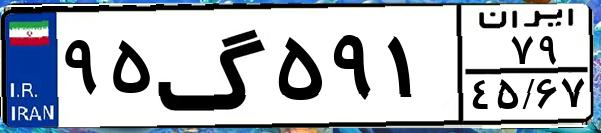1: (385, 28, 445, 110)
4: (470, 70, 495, 125)
5: (270, 28, 330, 110), (110, 28, 156, 98), (495, 70, 520, 125)
6: (535, 70, 560, 125)
7: (560, 70, 590, 125), (508, 27, 537, 80)
9: (330, 28, 385, 110), (57, 26, 110, 100), (537, 27, 568, 80)
گ: (156, 12, 270, 120)
